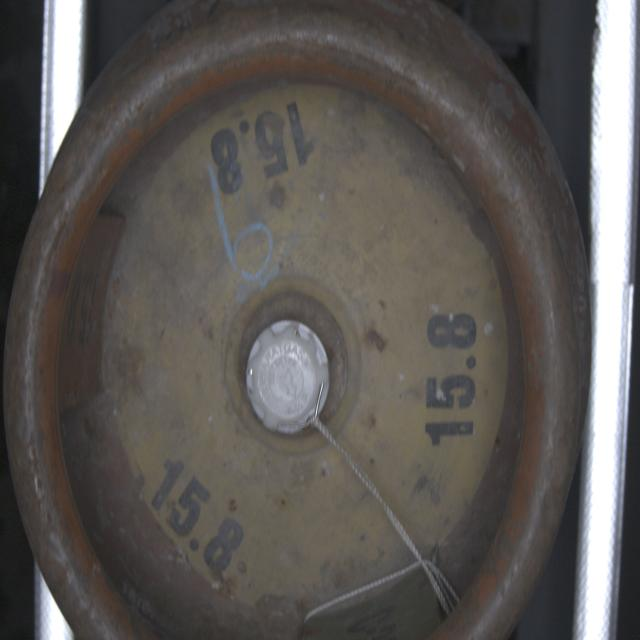Cap: (245, 316, 332, 439)
